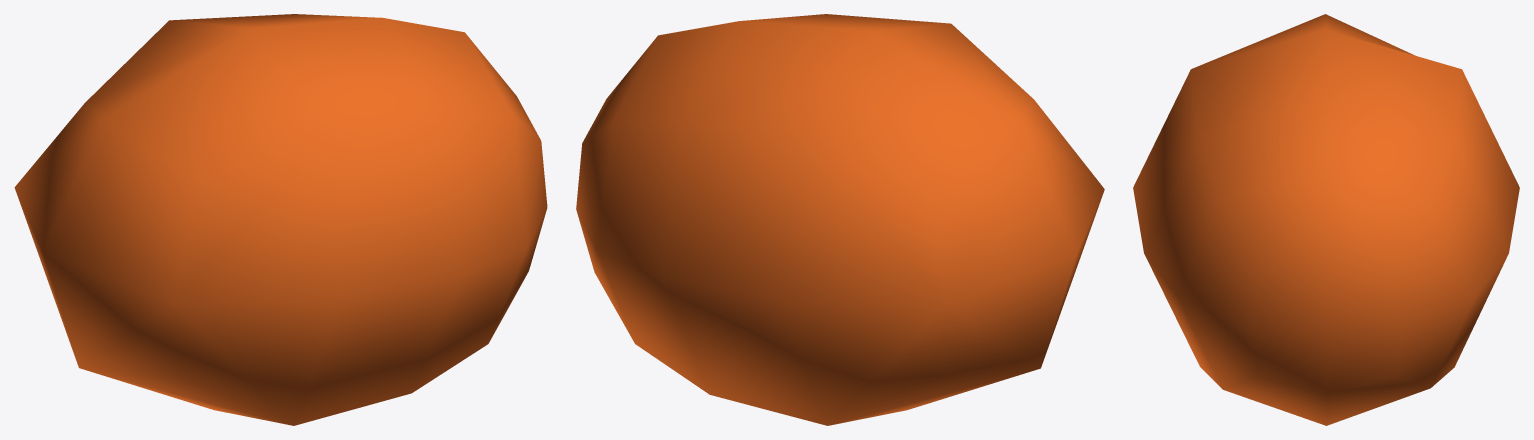
File: waddlebrazod.fbx
The picture shows the model from 3 angles, left to right: view 1: azimuth 30°, elevation 25°; view 2: azimuth 150°, elevation 25°; view 3: azimuth 270°, elevation 25°; orthographic projection. The views are drawn at different scales.
Visible parts, largest first — view 1: brazoderecho; view 2: brazoderecho; view 3: brazoderecho.
Boxes of the visible parts, x1=… form: brazoderecho: x1=14, y1=14, x2=547, y2=425; brazoderecho: x1=576, y1=14, x2=1104, y2=425; brazoderecho: x1=1133, y1=14, x2=1519, y2=425.
Size of the model in its own units: 88.17 by 66.73 by 69.51.
